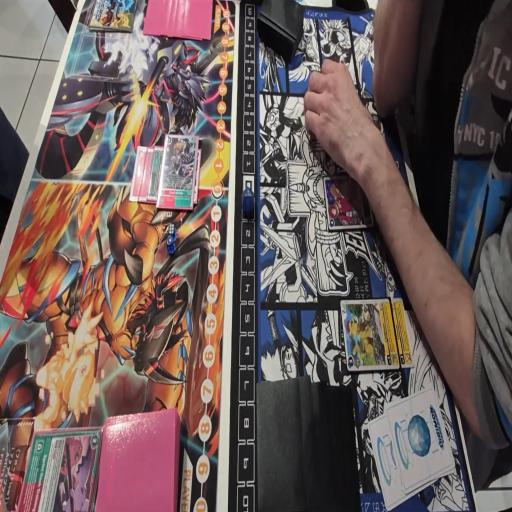card: (16, 424, 103, 512), (340, 294, 396, 372), (320, 167, 377, 233), (154, 136, 199, 212), (388, 296, 413, 370), (129, 143, 149, 203), (138, 144, 157, 205), (147, 147, 165, 204)
